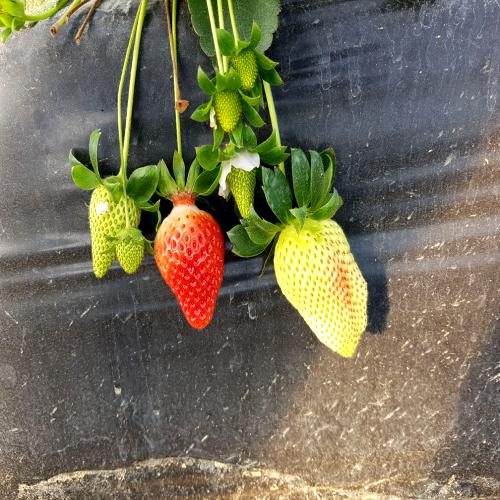ripe: (152, 196, 228, 340)
unripe: (272, 218, 375, 367)
